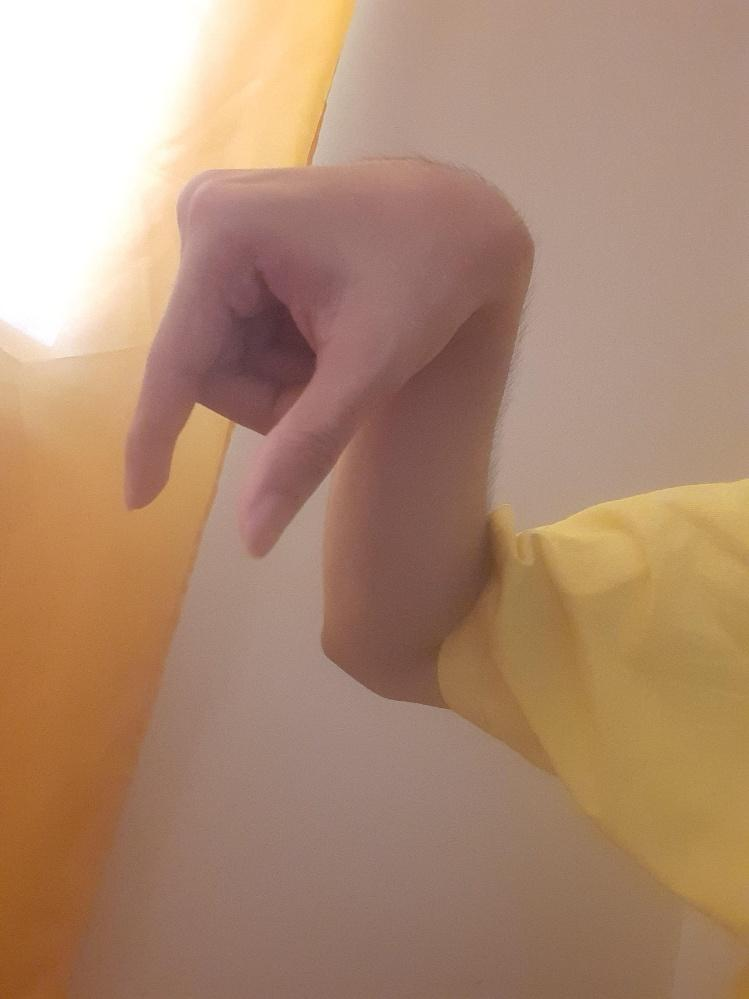q: (119, 152, 536, 559)
